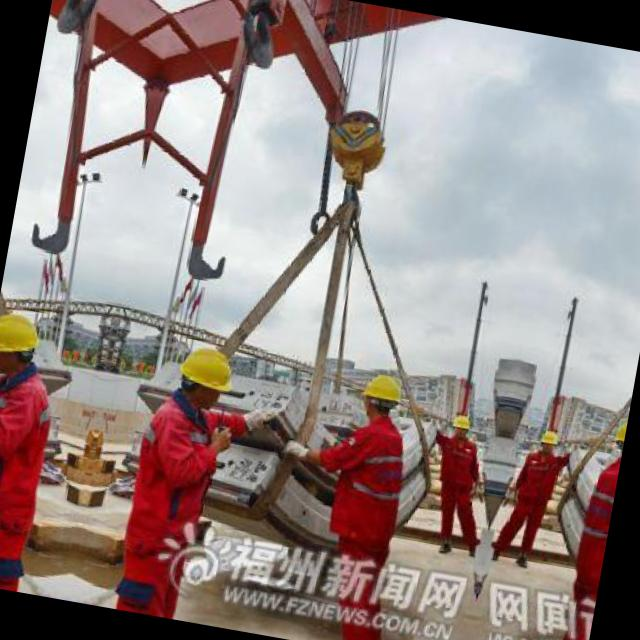helmet: (164, 339, 240, 413), (0, 307, 50, 380), (350, 366, 407, 426), (606, 412, 628, 466), (533, 425, 564, 458), (444, 410, 474, 442)
